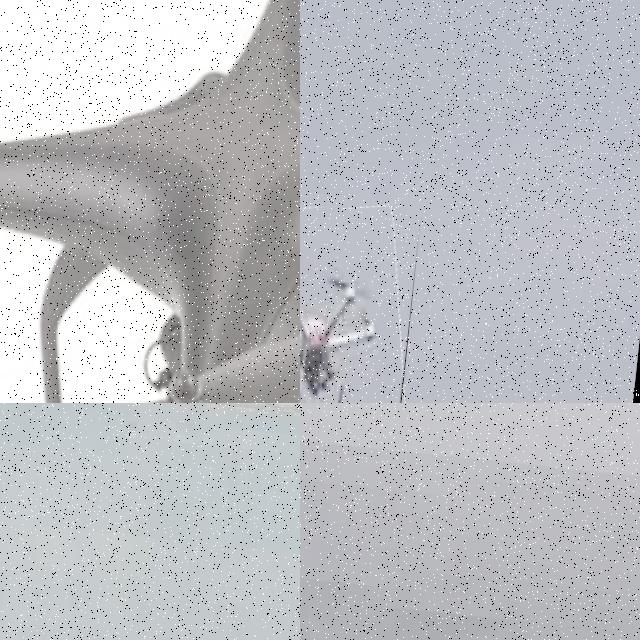0: (300, 195, 420, 403)
drone: (0, 0, 300, 403)
